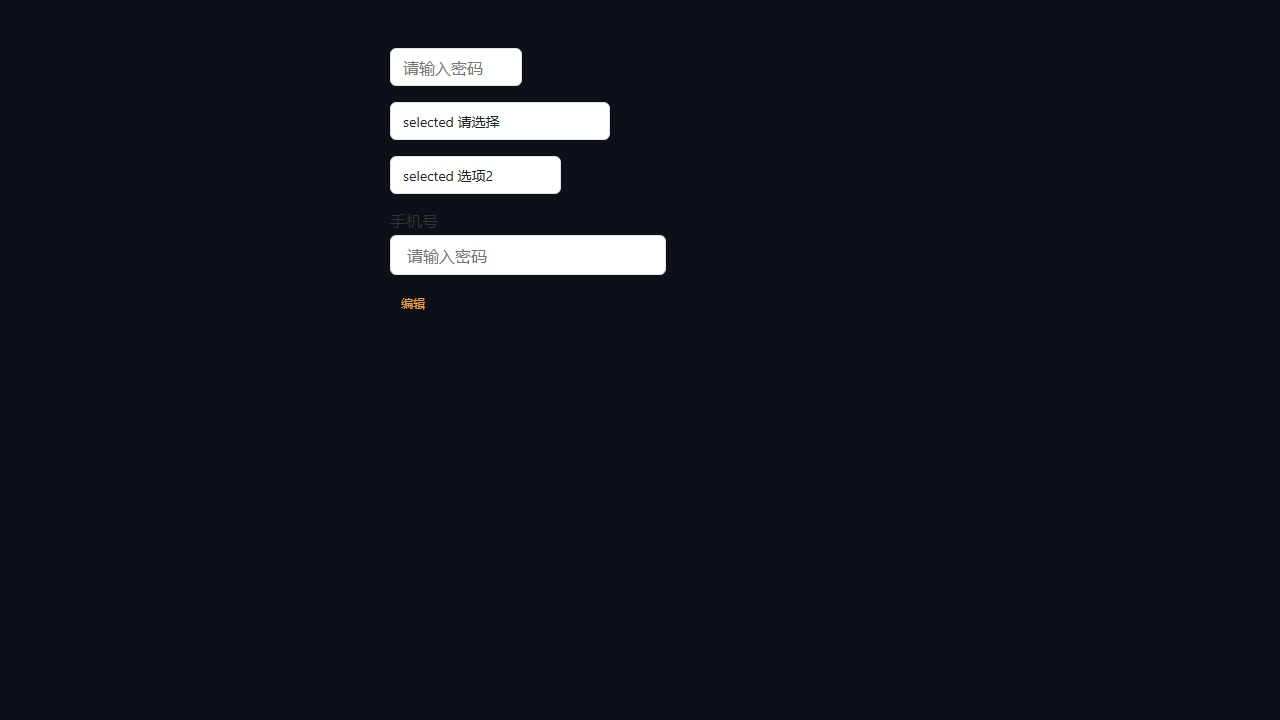button: (390, 292, 436, 314)
input: (390, 235, 666, 275), (390, 48, 522, 86)
select: (390, 102, 610, 140), (390, 156, 561, 194)
